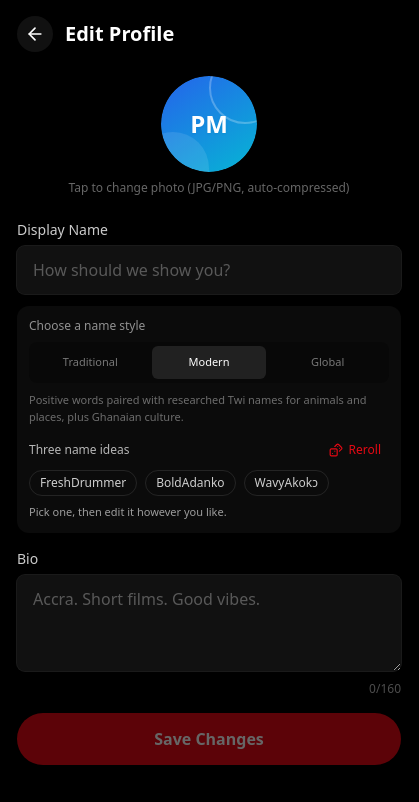
Test: EditProfileScreen › flags a taken display name and blocks saving
This screenshot has width=419, height=802.
Type "TakenName" into the field with placeholder "How should we show you?".
click(209, 270); type("TakenName")  # box [17,246,401,294]
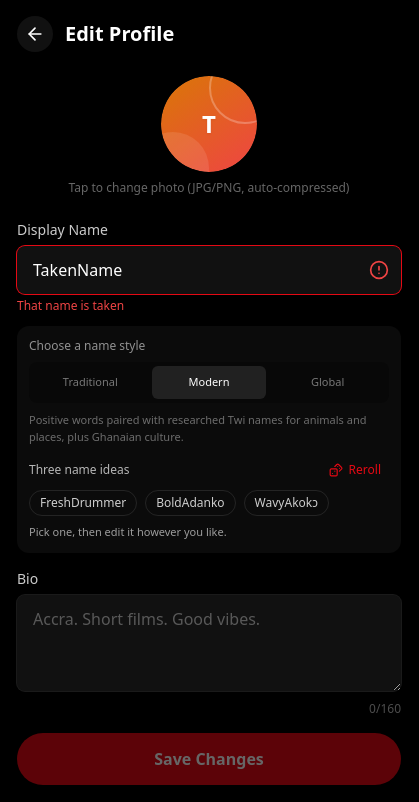
Expected: the button "Save Changes" is disabled, [17,733,401,785]
Now the text "That name is taken" is shown, box [17,297,124,314]
